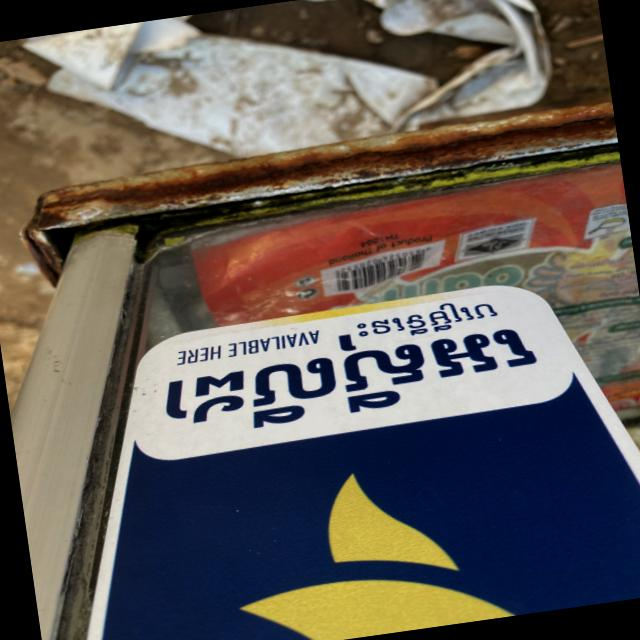Yolov11kh: (150, 310, 557, 449), (356, 294, 504, 345)
